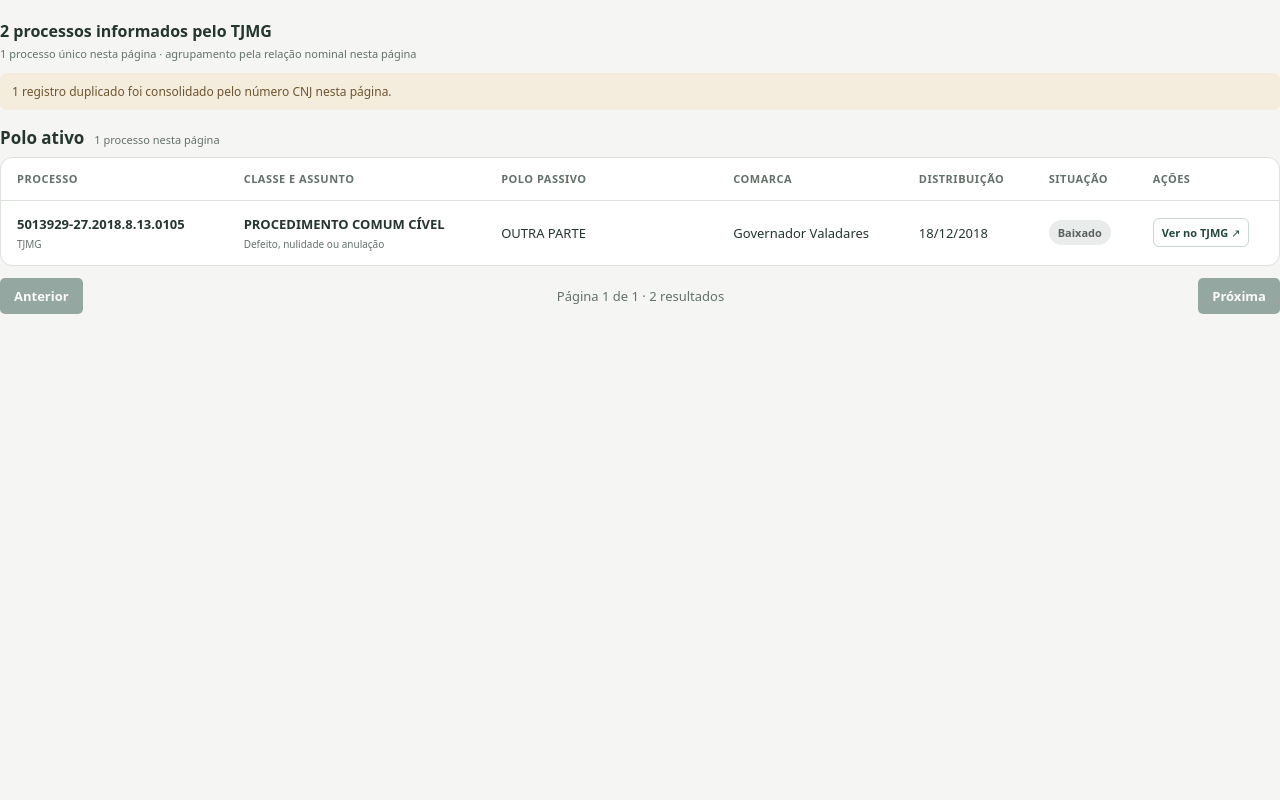
judicial process list › agrupa pela relação nominal e abre todos os polos em um dialog
Expected: the heading "Polo ativo" is shown, x1=0 y1=126 x2=84 y2=149
Expected: the column heading "Polo passivo" is shown, x1=485 y1=158 x2=717 y2=200
What coordinates should you click on to do the following:
click the text "Governador Valadares"
I would click on:
 (810, 233)
Its box is x1=717 y1=200 x2=903 y2=265.
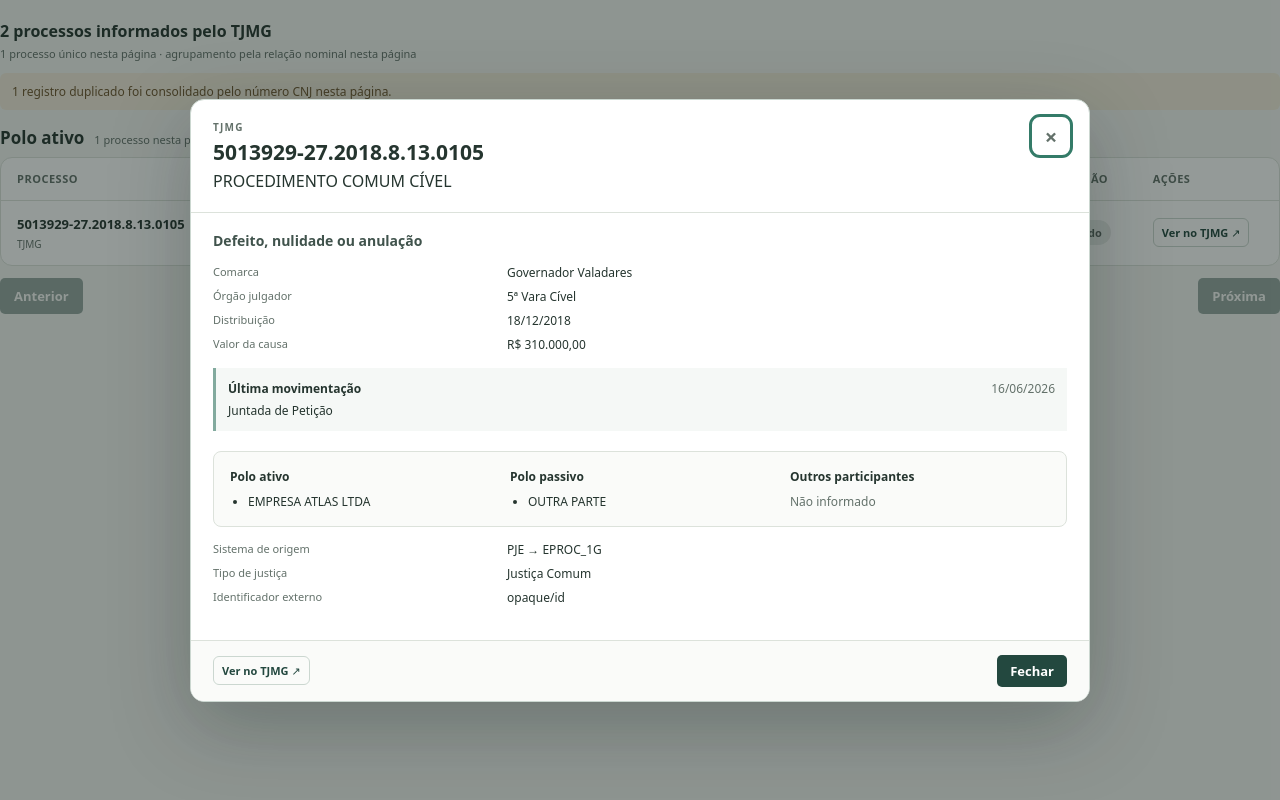
Result: the dialog is shown at x1=190 y1=98 x2=1090 y2=702
Result: the text "R$ 310.000,00" is shown at x1=507 y1=336 x2=586 y2=352
Result: the heading "Outros participantes" is shown at x1=790 y1=468 x2=914 y2=484
What coordinates should you click on to do the following:
click the button "Fechar"
I would click on:
 (1032, 670)
Its box is x1=997 y1=654 x2=1067 y2=686.
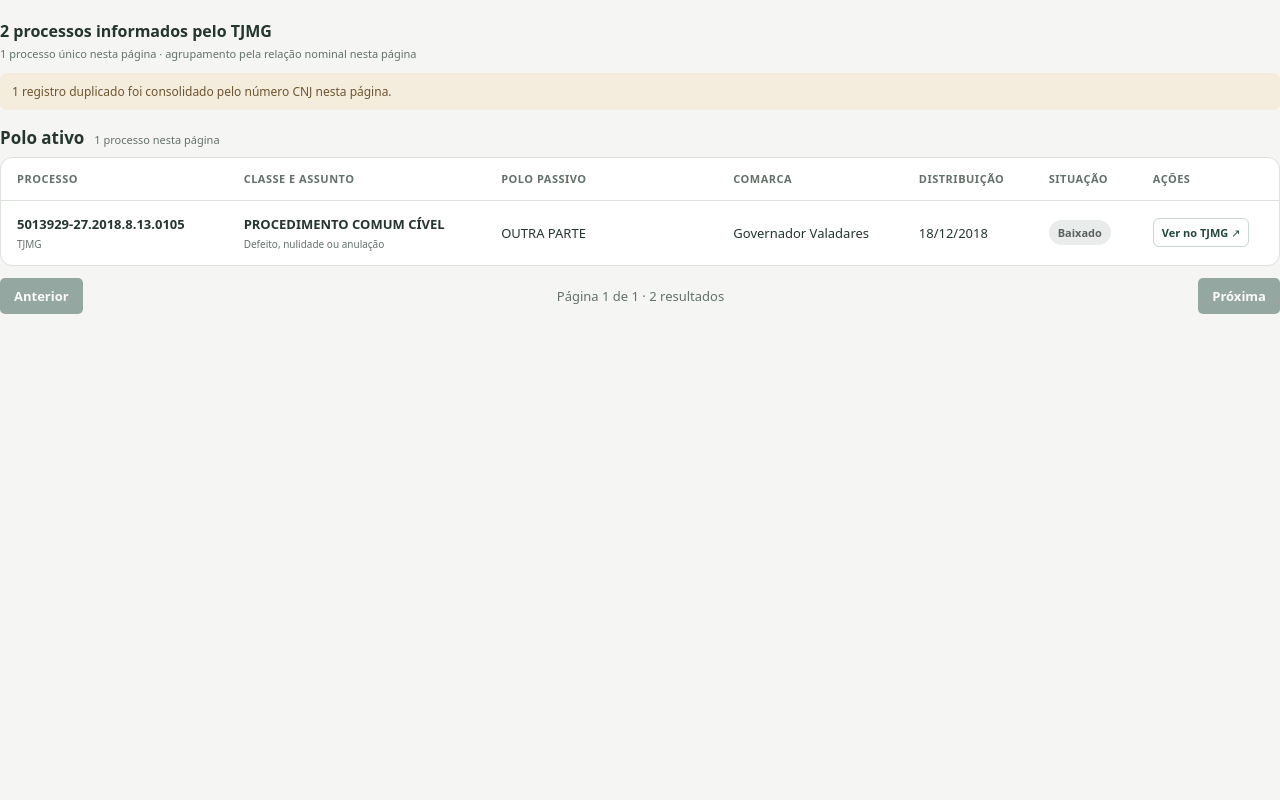
Result: the dialog is gone
